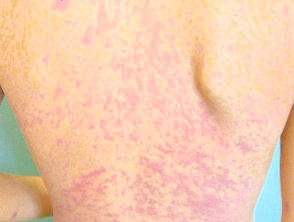SJS-TEN: (15, 0, 278, 222)
